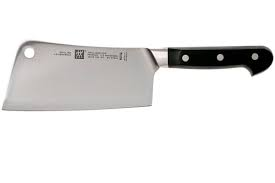knife: (1, 39, 275, 113)
